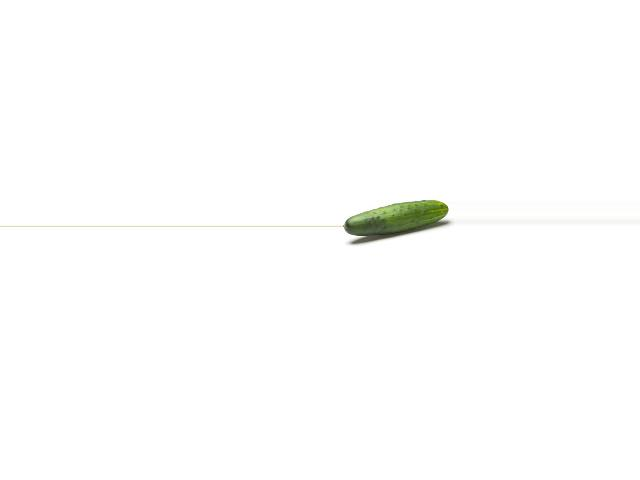cucumber: (342, 200, 447, 237)
